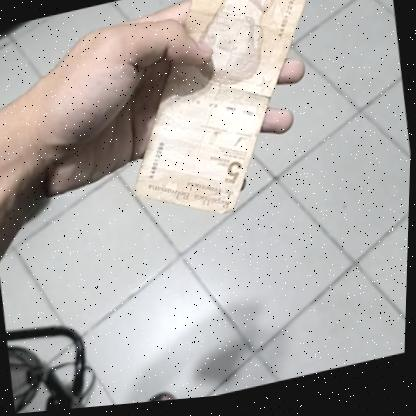five-front-vef: (105, 0, 350, 238)
